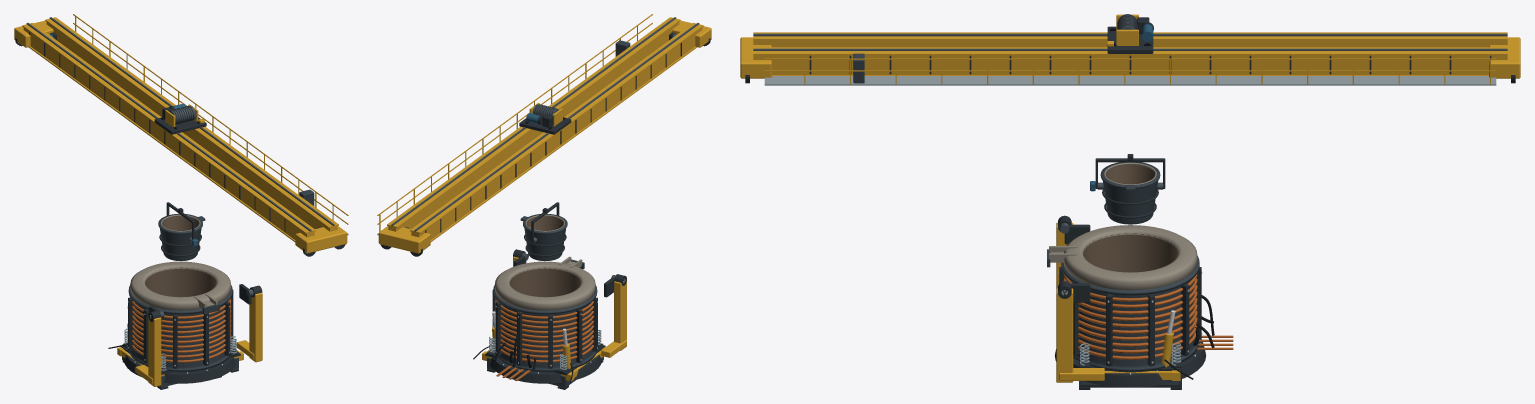
The model's file is equipos.glb.
3 views of the same model, side by side, from view 1: azimuth 30°, elevation 25°; view 2: azimuth 150°, elevation 25°; view 3: azimuth 270°, elevation 25° (orthographic). The views are drawn at different scales.
Parts seen in each view (by area): view 1: GruaPuente, HornoCuerpo, HornoBase, GruaCuchara, GruaCarro, DesmoldeoBastidor; view 2: GruaPuente, HornoCuerpo, HornoBase, GruaCuchara, GruaCarro, DesmoldeoBastidor; view 3: GruaPuente, HornoCuerpo, HornoBase, GruaCuchara, GruaCarro, DesmoldeoBastidor.
Boxes of the visible parts, <box> form: GruaPuente: <box>14,14,348,256</box>; HornoCuerpo: <box>128,261,253,372</box>; HornoBase: <box>108,285,262,386</box>; GruaCuchara: <box>158,202,205,261</box>; GruaCarro: <box>154,103,206,134</box>; DesmoldeoBastidor: <box>117,328,243,376</box>; GruaPuente: <box>377,14,711,256</box>; HornoCuerpo: <box>492,253,615,372</box>; HornoBase: <box>473,249,626,383</box>; GruaCuchara: <box>520,202,567,261</box>; GruaCarro: <box>519,103,571,134</box>; DesmoldeoBastidor: <box>482,330,605,381</box>; GruaPuente: <box>740,32,1520,85</box>; HornoCuerpo: <box>1047,223,1214,372</box>; HornoBase: <box>1054,215,1233,387</box>; GruaCuchara: <box>1090,154,1165,224</box>; GruaCarro: <box>1107,14,1153,53</box>; DesmoldeoBastidor: <box>1079,343,1181,380</box>.
Bounding box in the file's own units: 5.94 × 13.75 × 27.3.
